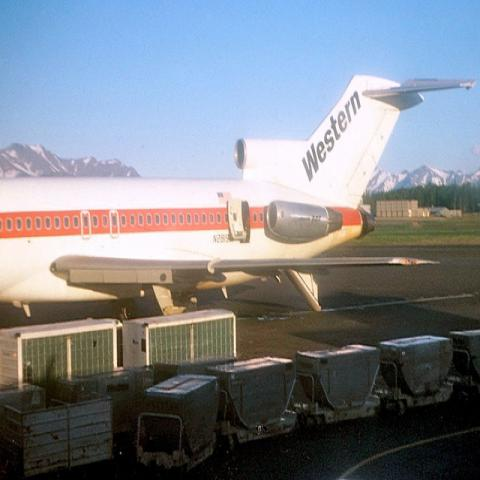truck: (132, 372, 224, 479), (207, 353, 300, 449), (380, 332, 473, 410)
